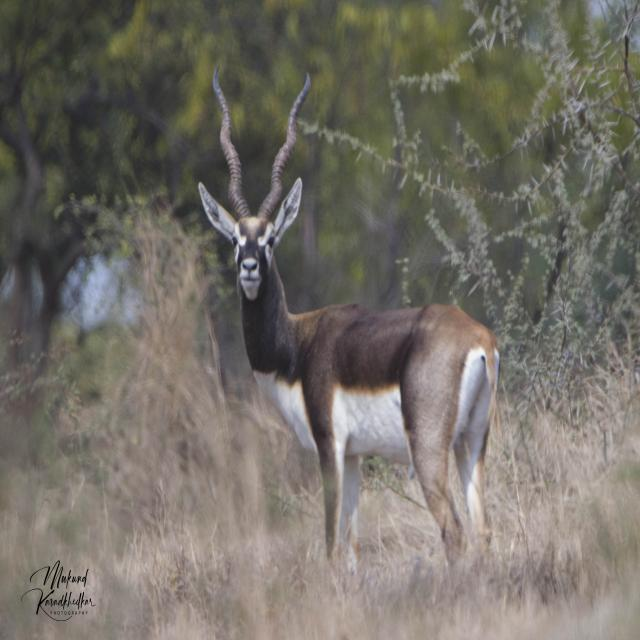Antelope: (200, 65, 500, 568)
